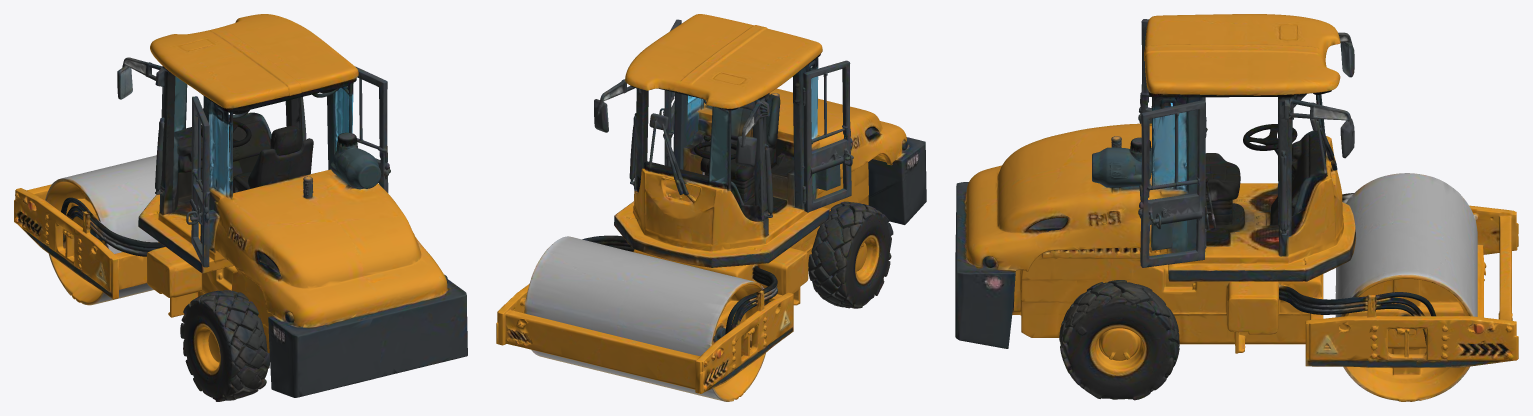
Rendered from tripo_pbr_model_003af8d7-9e6e-4ee6-a122-b9971804e582_meshopt.glb.
3 views of the same model, side by side, from view 1: azimuth 30°, elevation 25°; view 2: azimuth 150°, elevation 25°; view 3: azimuth 270°, elevation 25° (orthographic). The views are drawn at different scales.
Visible parts, largest first — view 1: tripo_node_003af8d7-9e6e-4ee6-a122-b9971804e582; view 2: tripo_node_003af8d7-9e6e-4ee6-a122-b9971804e582; view 3: tripo_node_003af8d7-9e6e-4ee6-a122-b9971804e582.
Boxes of the visible parts, box(x1,y1,x2,y2) form: tripo_node_003af8d7-9e6e-4ee6-a122-b9971804e582: box(14, 14, 467, 401); tripo_node_003af8d7-9e6e-4ee6-a122-b9971804e582: box(496, 14, 926, 401); tripo_node_003af8d7-9e6e-4ee6-a122-b9971804e582: box(955, 14, 1518, 401).
Size of the model in its own units: 0.4788 by 0.5864 by 0.981.
1 material, 1 textured.
